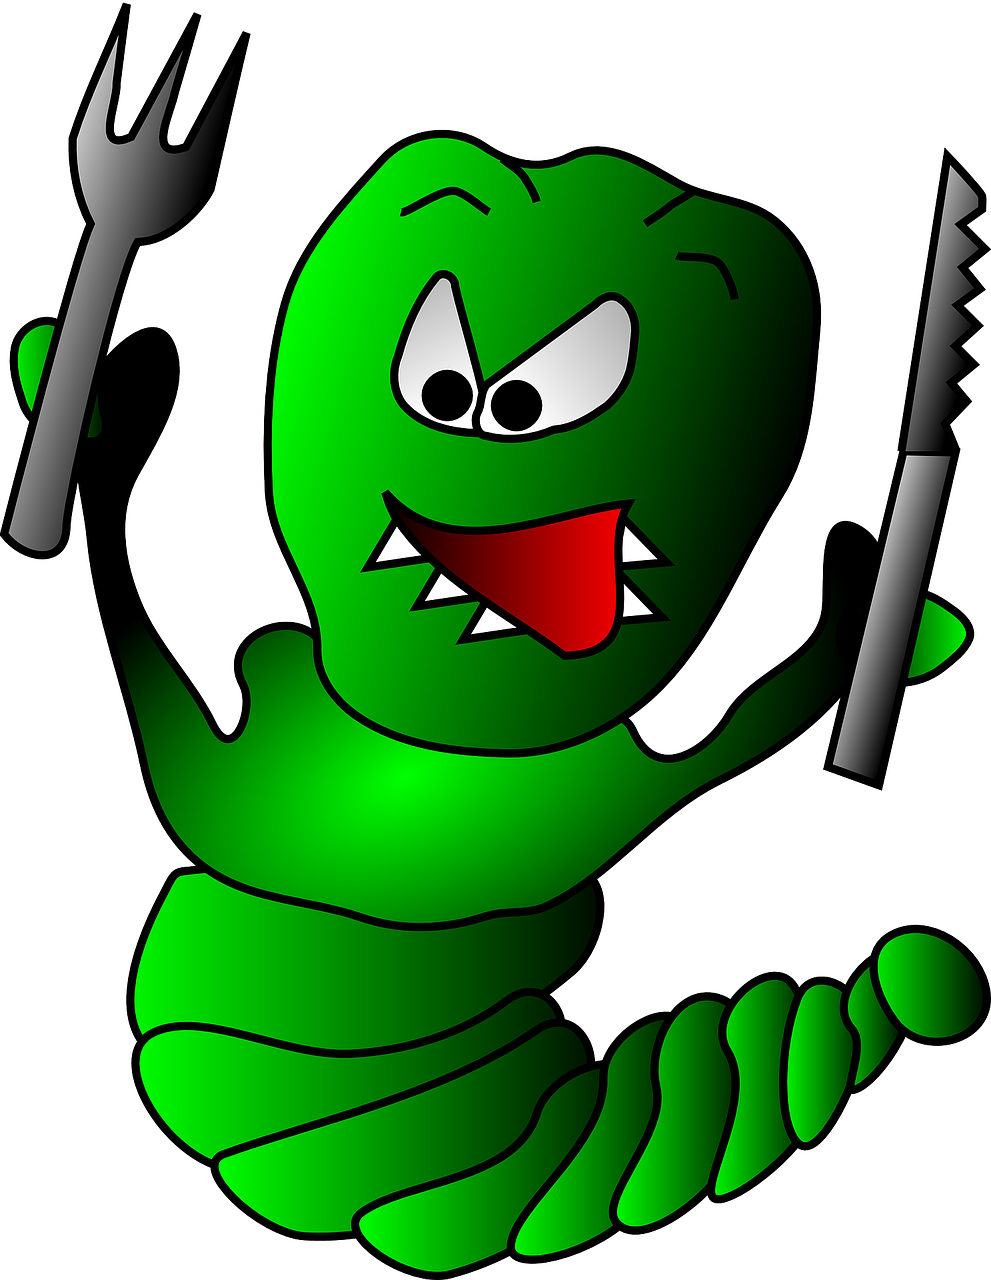knife: (824, 141, 991, 795)
